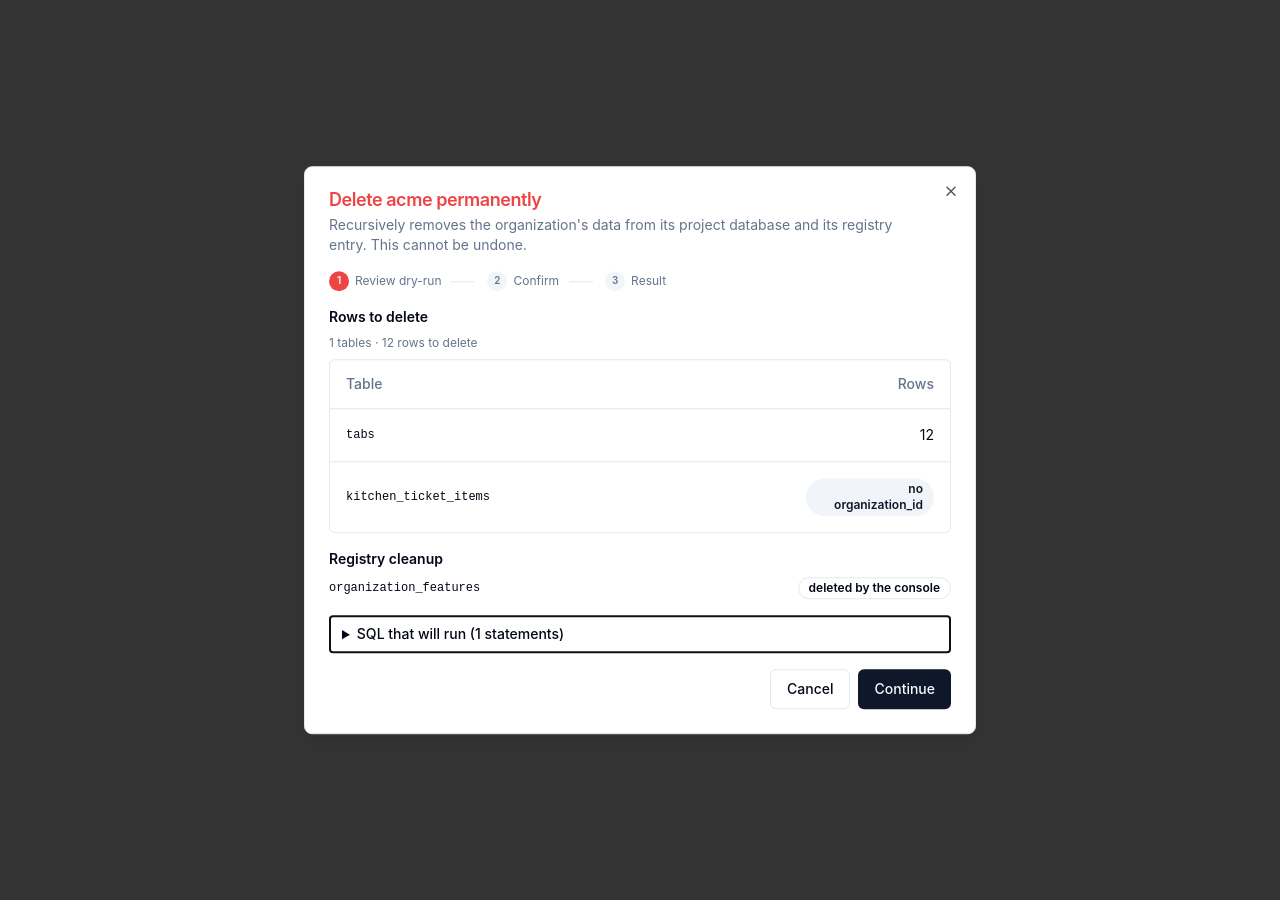
Test: DeleteOrganizationDialog › keeps Execute disabled until the slug matches exactly and the checkbox is checked
Expected: the heading "Rows to delete" is shown, [329,308,428,325]
Step 1. Click the button "Continue" → (905, 689), box [858,669,951,709]
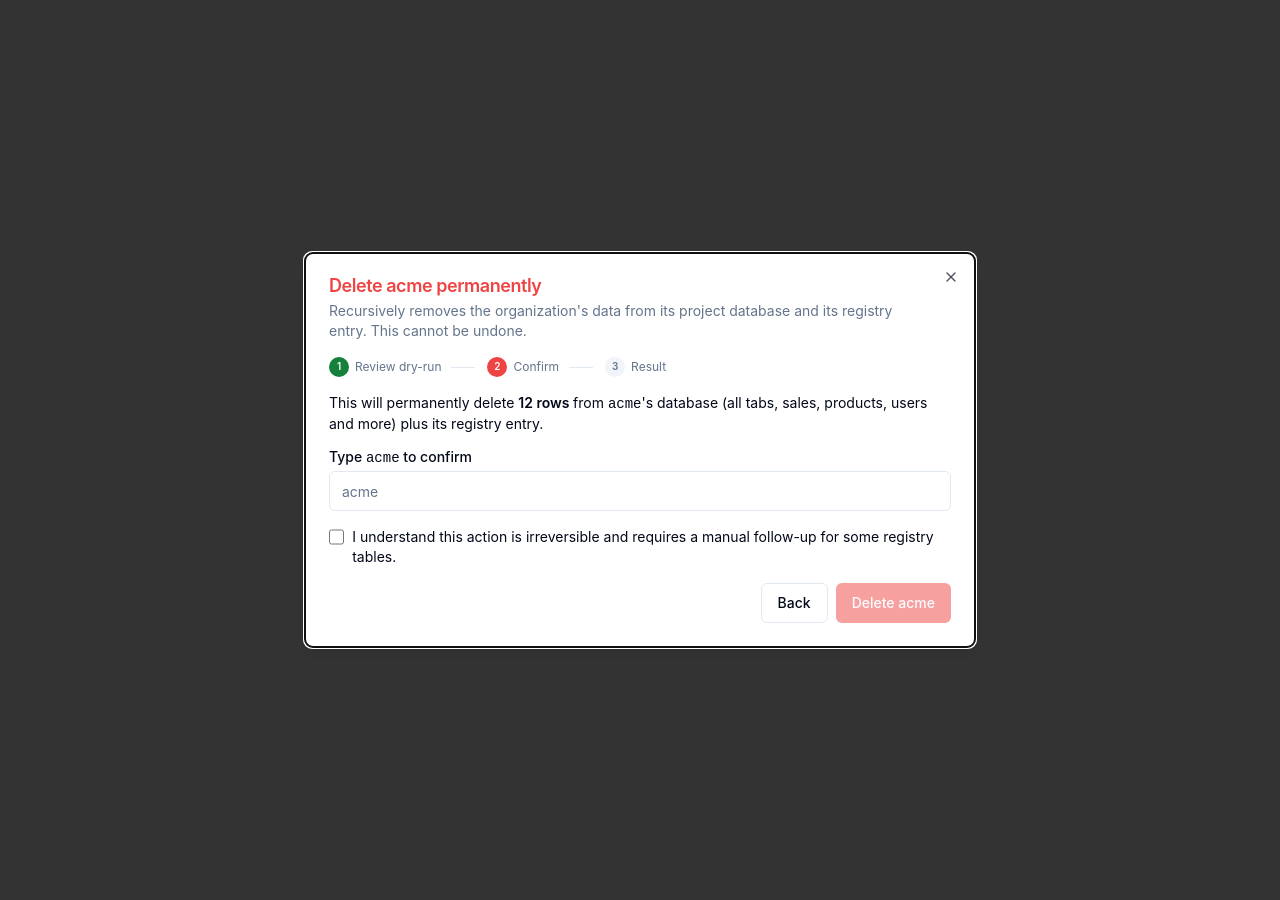
Expected: the button "Delete acme" is disabled, [836,583,951,623]
Step 2. Type "acm" into the field labelled "Type acme to confirm" → (640, 491), box [329,471,951,511]
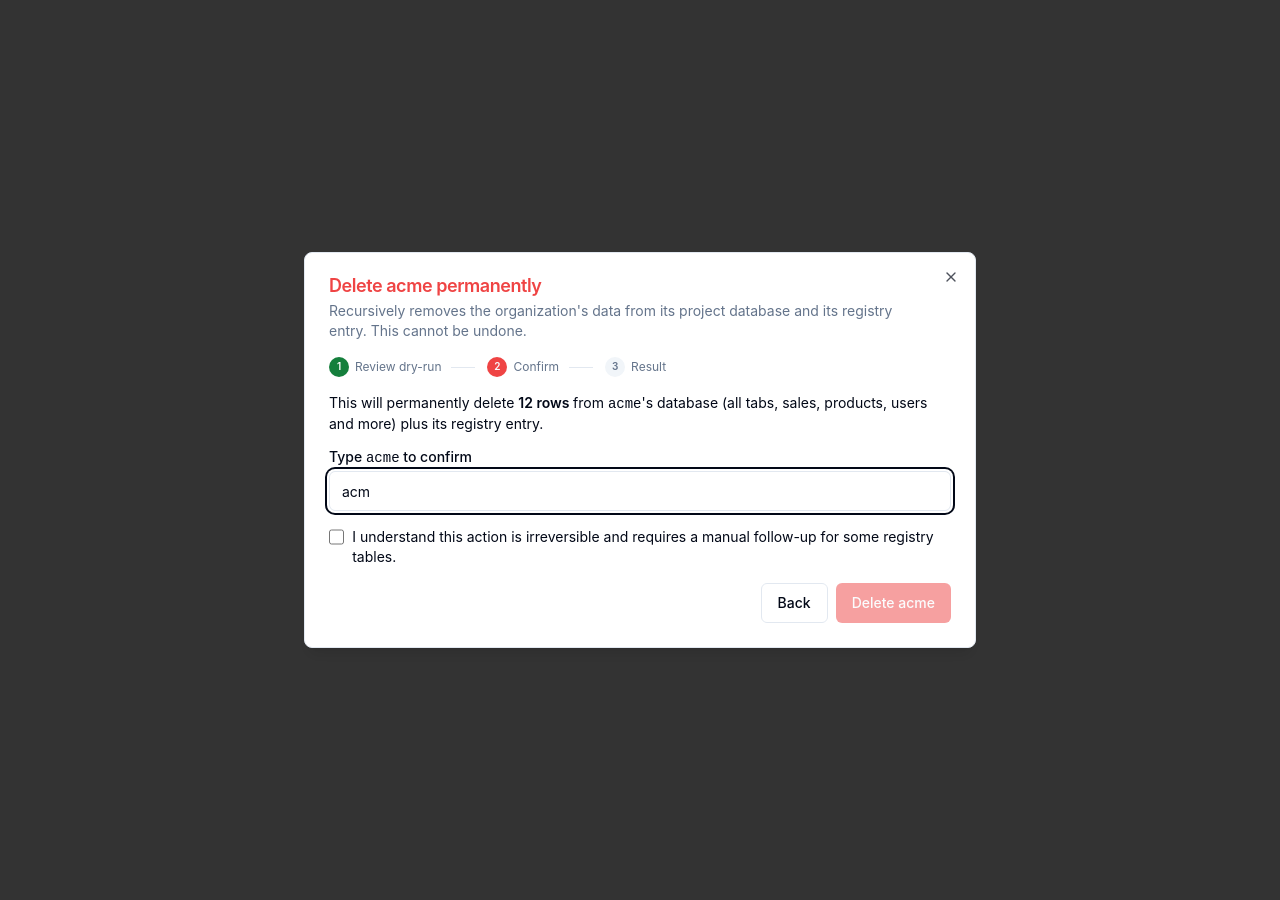
Expected: the button "Delete acme" is disabled, [836,583,951,623]
Step 3. Type "e" into the field labelled "Type acme to confirm" → (640, 491), box [329,471,951,511]
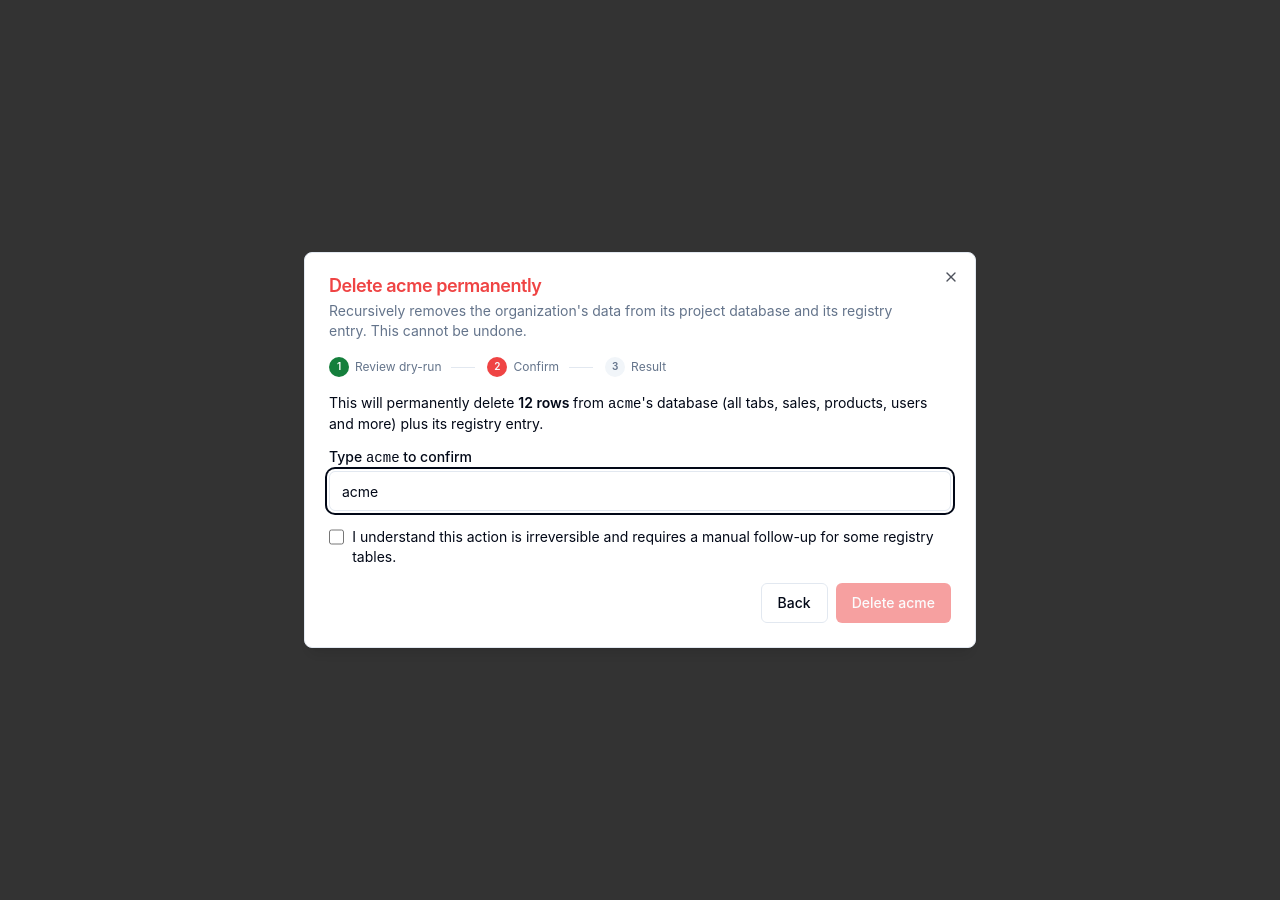
Expected: the button "Delete acme" is disabled, [836,583,951,623]
Step 4. Click the checkbox → (337, 537), box [329,529,344,545]
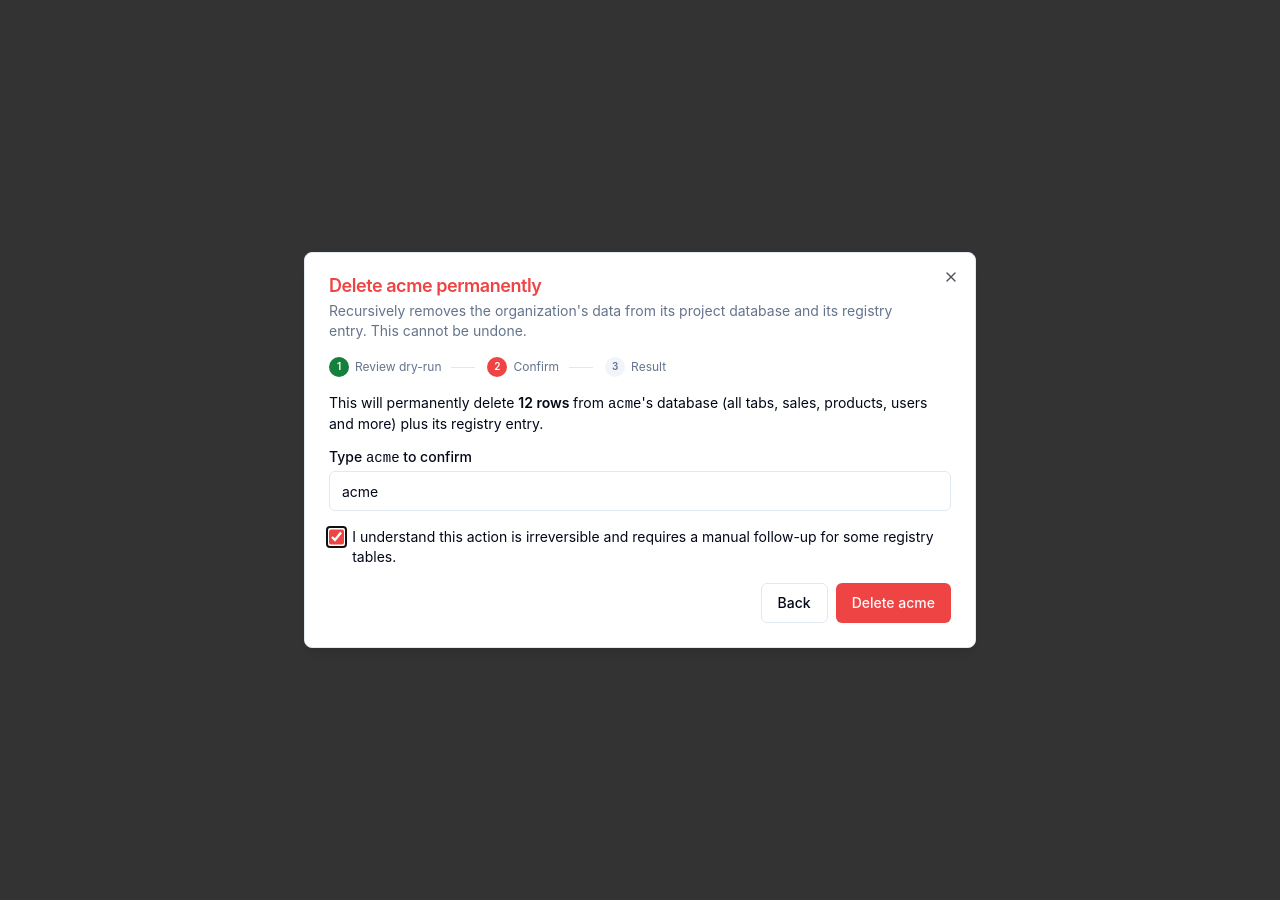
Expected: the button "Delete acme" is enabled, [836,583,951,623]
